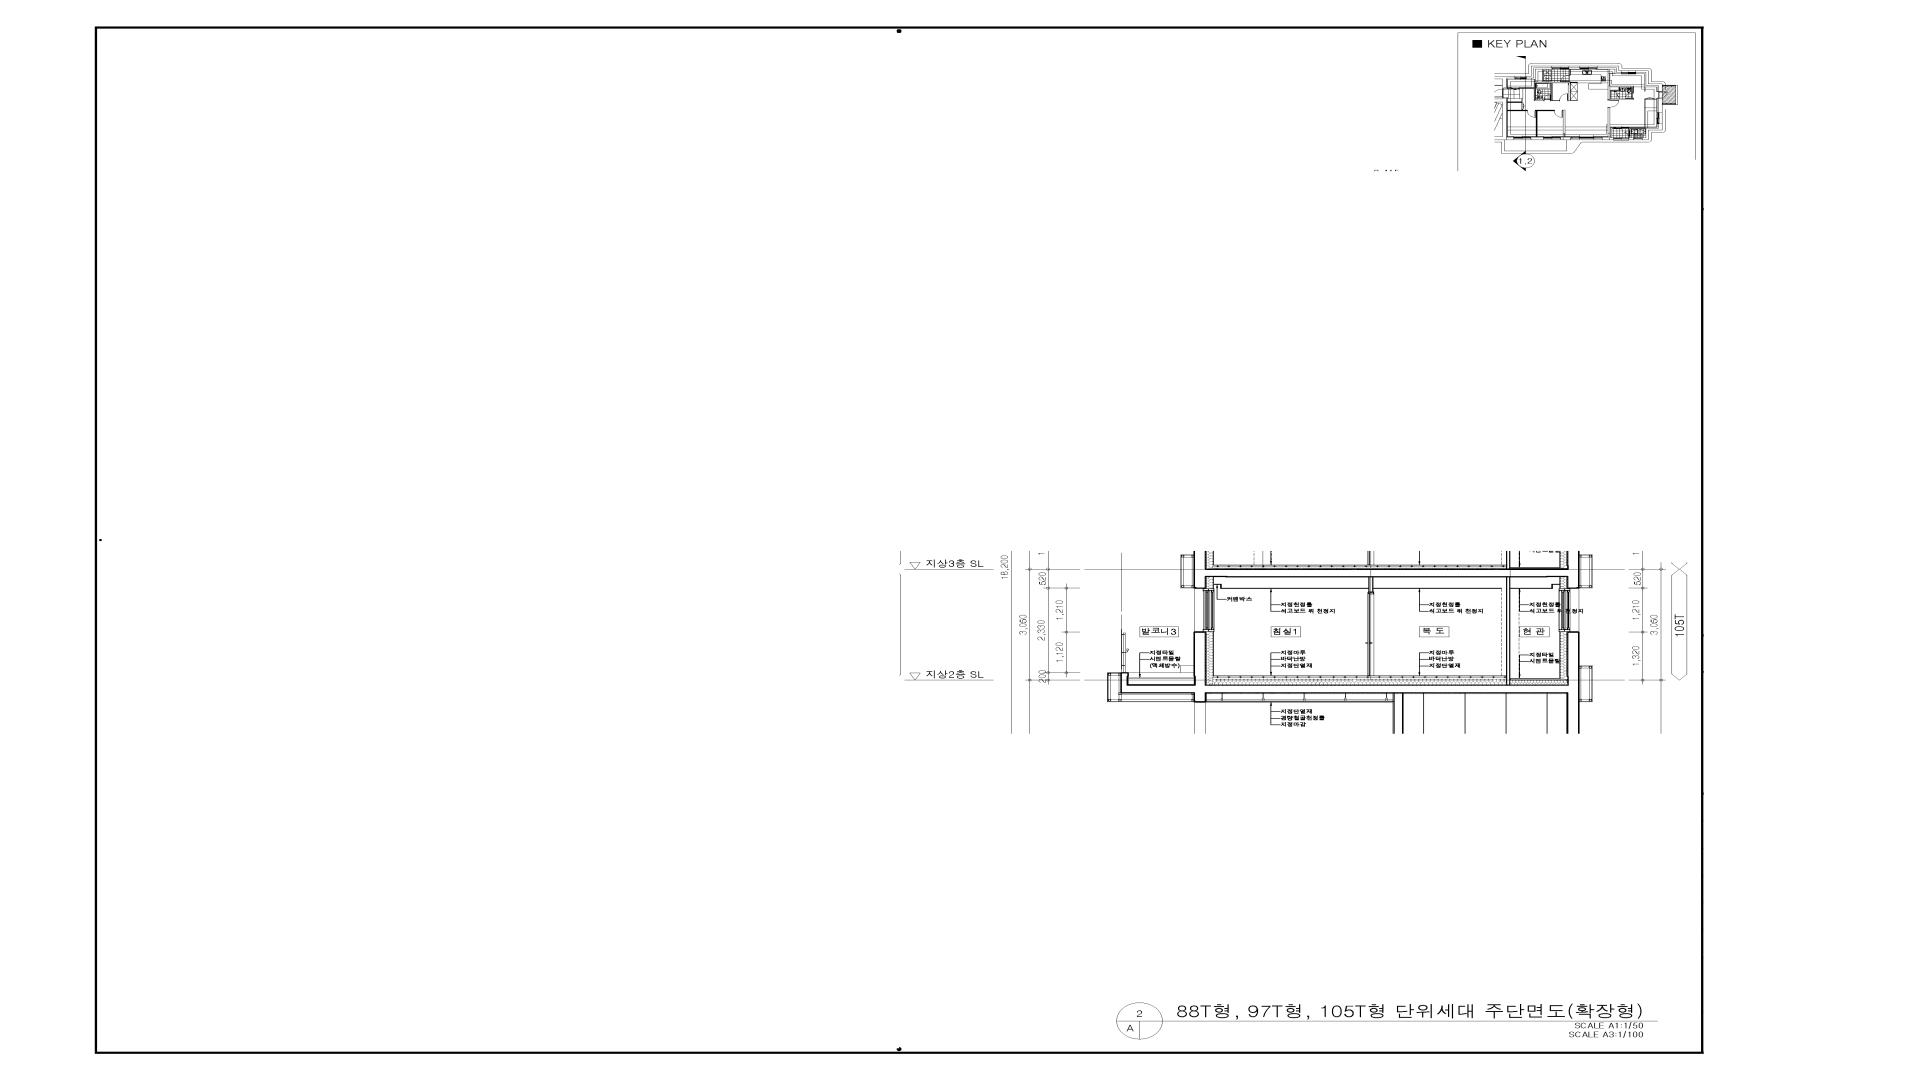background: (0, 0, 1920, 1080)
door: (1366, 592, 1374, 675)
wall: (1121, 632, 1580, 694), (1193, 568, 1580, 589), (1506, 578, 1510, 684), (1369, 578, 1374, 592)
window: (1559, 588, 1580, 632), (1195, 589, 1215, 632)
